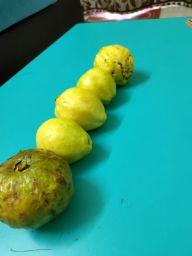guava: (0, 146, 78, 233), (34, 117, 96, 162), (52, 84, 110, 131), (93, 43, 137, 88), (77, 63, 122, 104)
